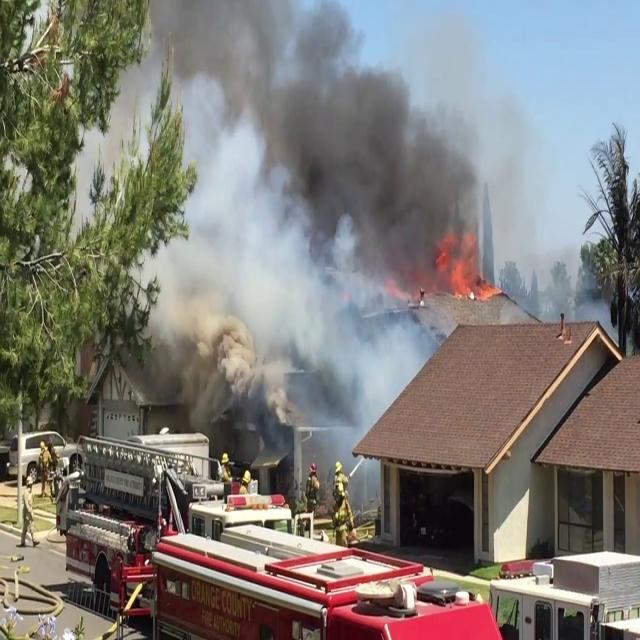Fire: (438, 231, 502, 305)
Smoke: (96, 1, 498, 296)
